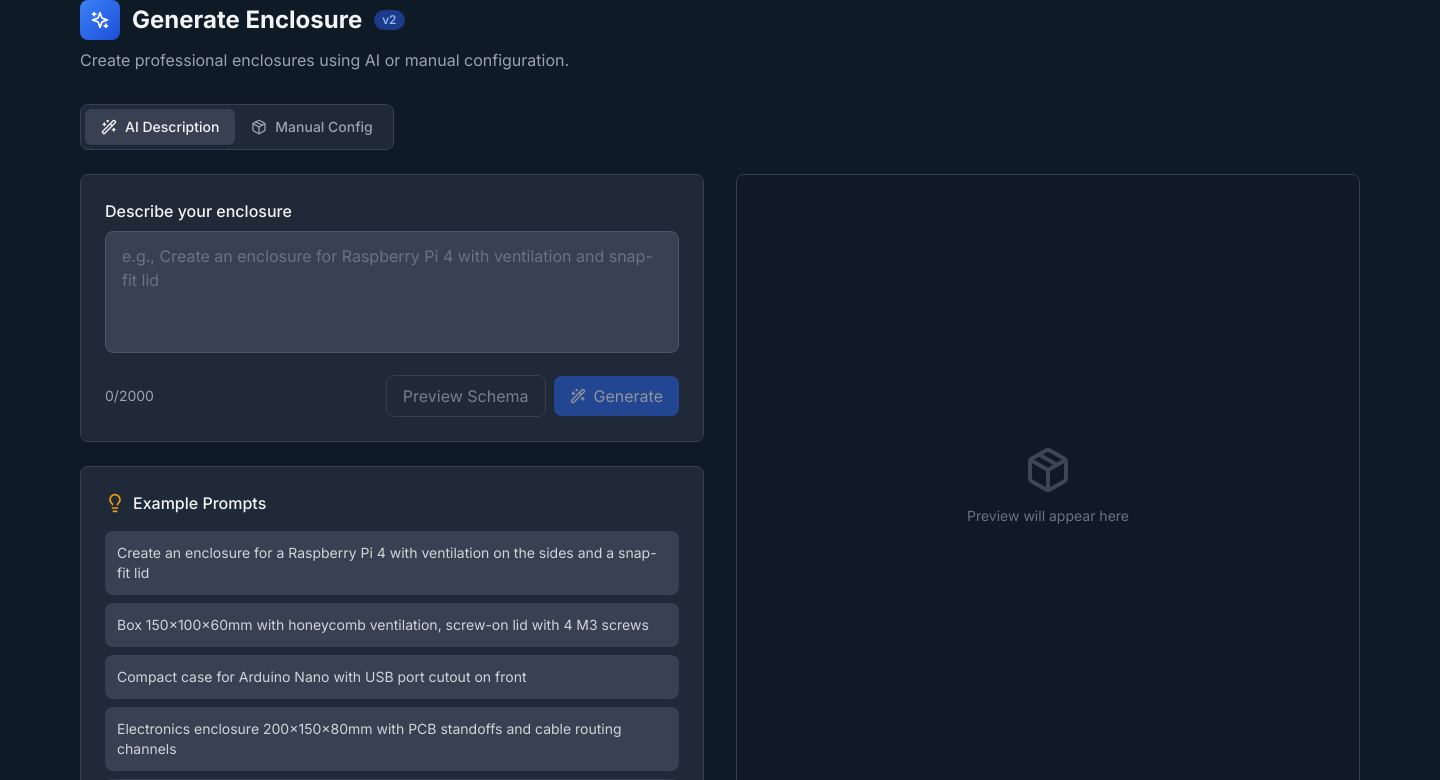
Test case: GeneratePageV2 › should switch to manual mode when clicked
Click the button "Manual Config".
click(312, 127)  # box 235,109 -> 389,145
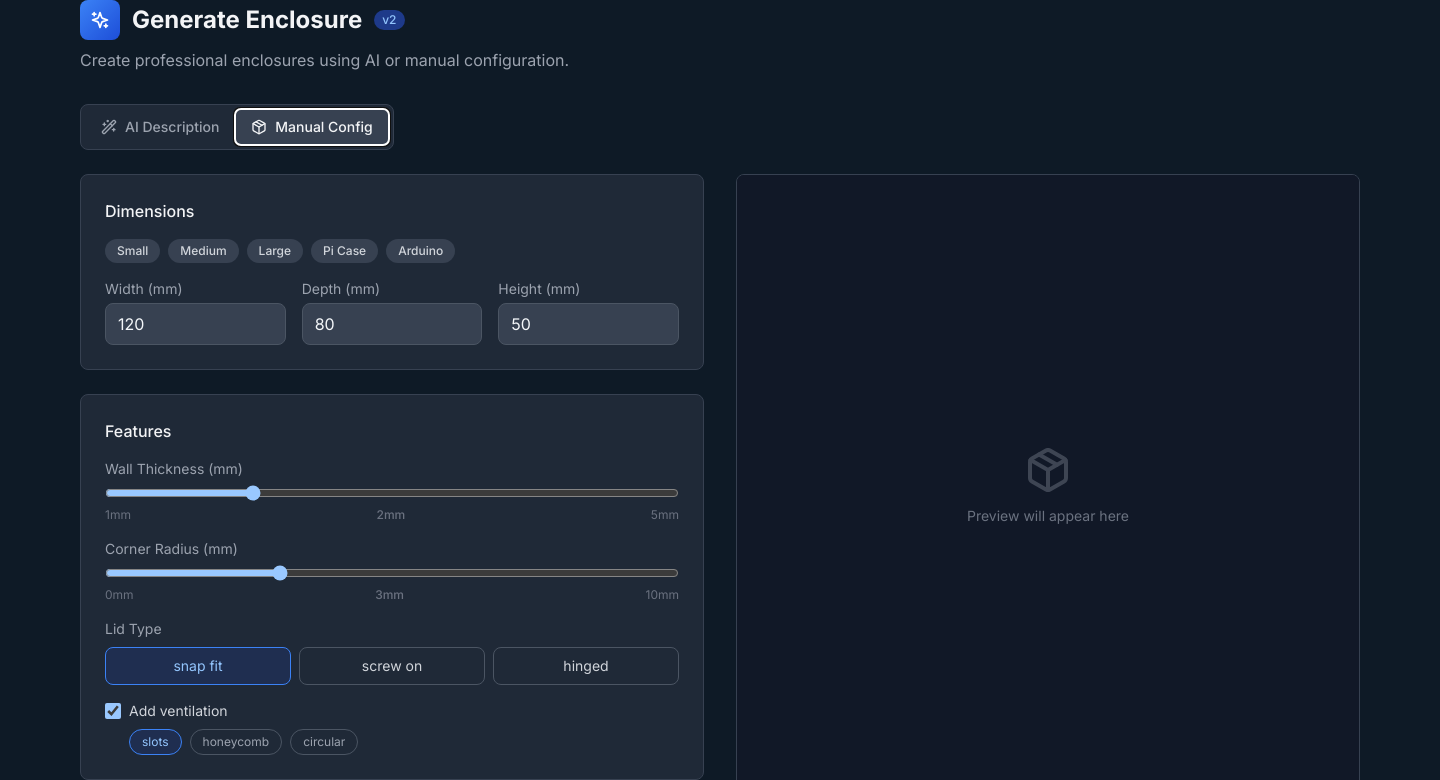
expect the heading "Dimensions" is shown: met, box 105,201 -> 194,221
expect the heading "Features" is shown: met, box 105,421 -> 172,441
